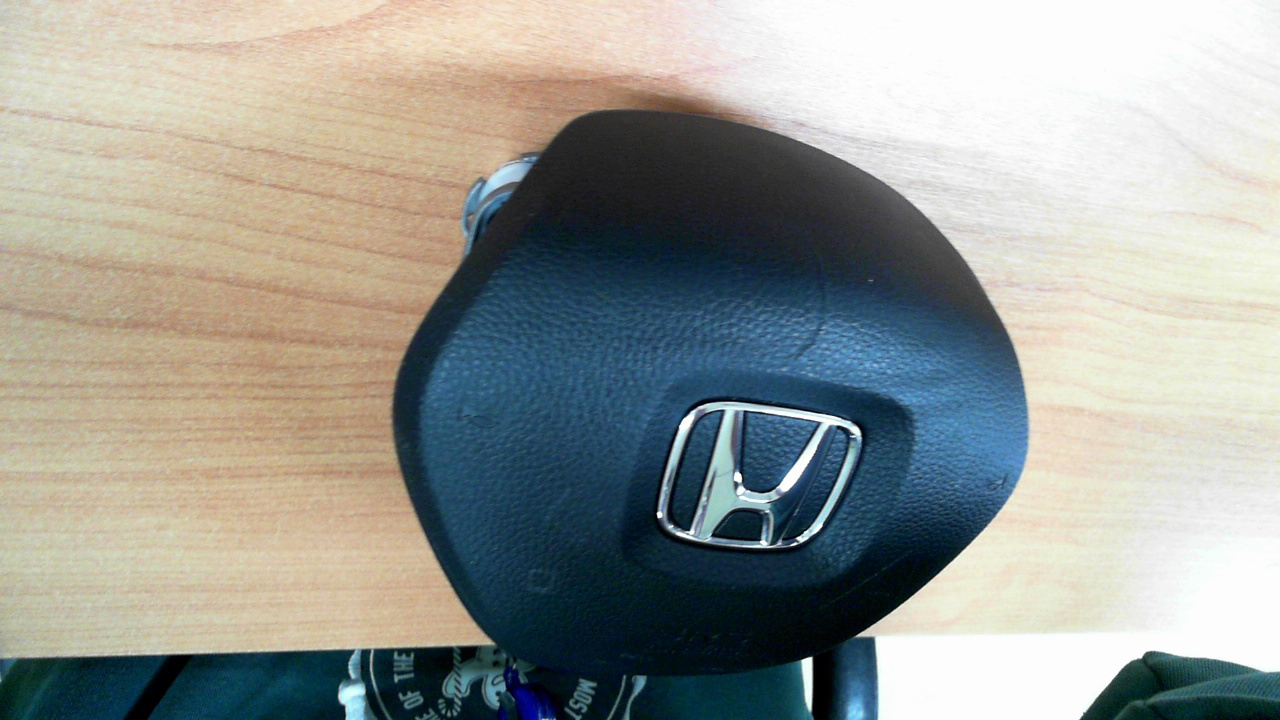Airbag: (392, 107, 1031, 675)
Honda: (655, 400, 863, 550)
